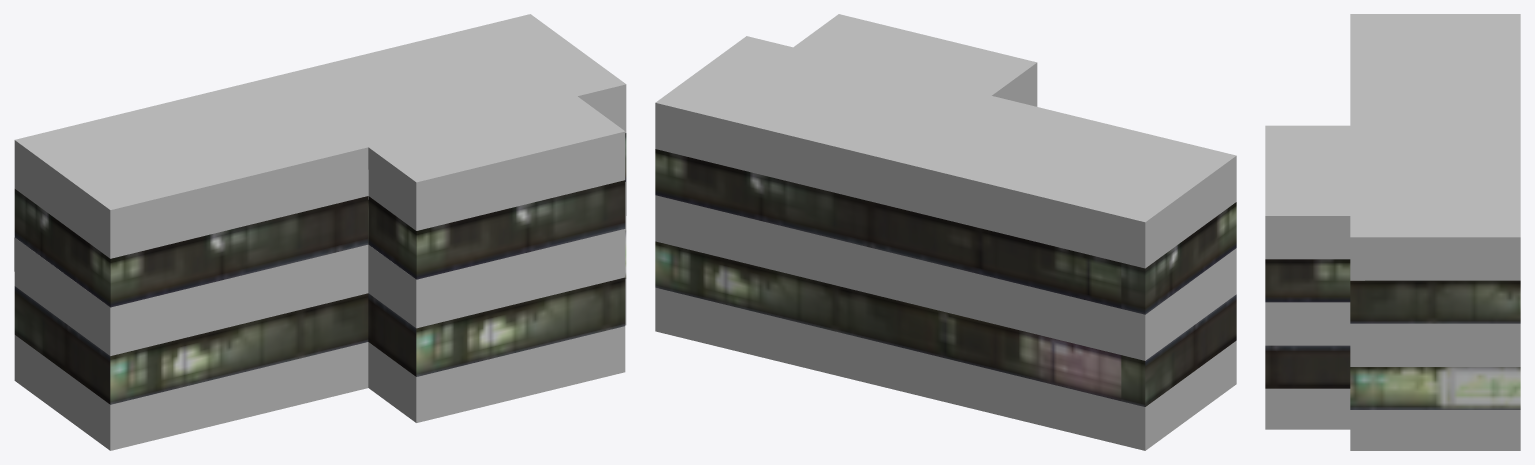
Rendered from hirise_parts06_2f.fbx.
3 views of the same model, side by side, from view 1: azimuth 30°, elevation 25°; view 2: azimuth 150°, elevation 25°; view 3: azimuth 270°, elevation 25° (orthographic). The views are drawn at different scales.
Parts seen in each view (by area): view 1: hirise_parts06_2f; view 2: hirise_parts06_2f; view 3: hirise_parts06_2f.
Part boxes in pixels (left/top/right/bottom): hirise_parts06_2f: left=14, top=14, right=626, bottom=450; hirise_parts06_2f: left=655, top=14, right=1236, bottom=450; hirise_parts06_2f: left=1265, top=14, right=1520, bottom=450.
Size of the model in its own units: 17.68 by 7.88 by 8.55.
